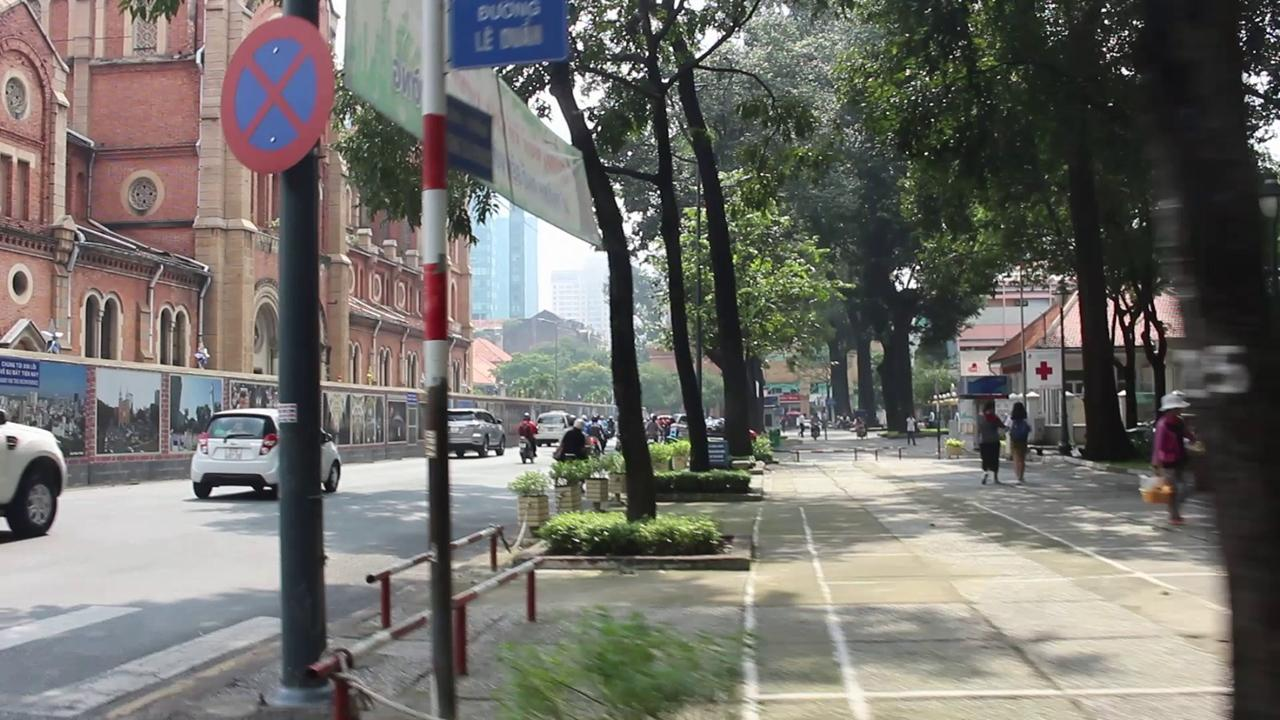P.103a: (217, 21, 338, 167)
